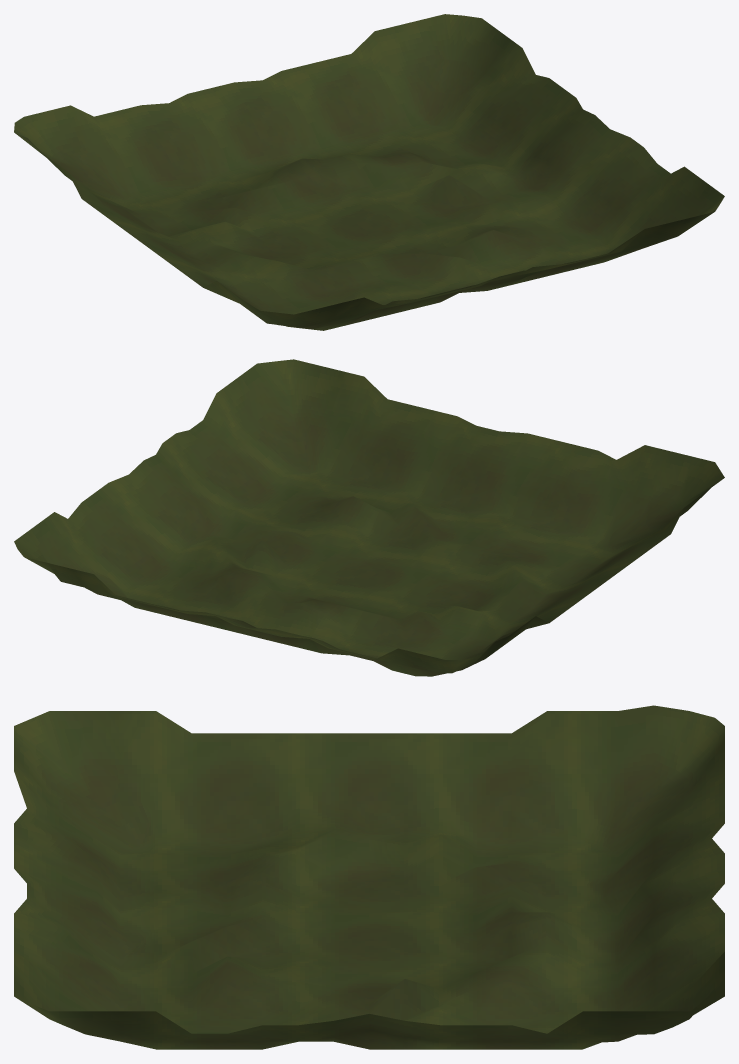
Rendered from ondegrond grass v3.fbx.
3 renders of one model, top to bottom at view 1: azimuth 30°, elevation 25°; view 2: azimuth 150°, elevation 25°; view 3: azimuth 270°, elevation 25°, orthographic. The views are drawn at different scales.
Parts seen in each view (by area): view 1: Plane; view 2: Plane; view 3: Plane.
Boxes of the visible parts, box(x1,y1,x2,y2) form: Plane: box(14, 14, 724, 330); Plane: box(14, 359, 724, 676); Plane: box(14, 705, 724, 1049).
Size of the model in its own units: 15000 by 2063 by 15000.
Materials: 1 (1 with a texture image).
